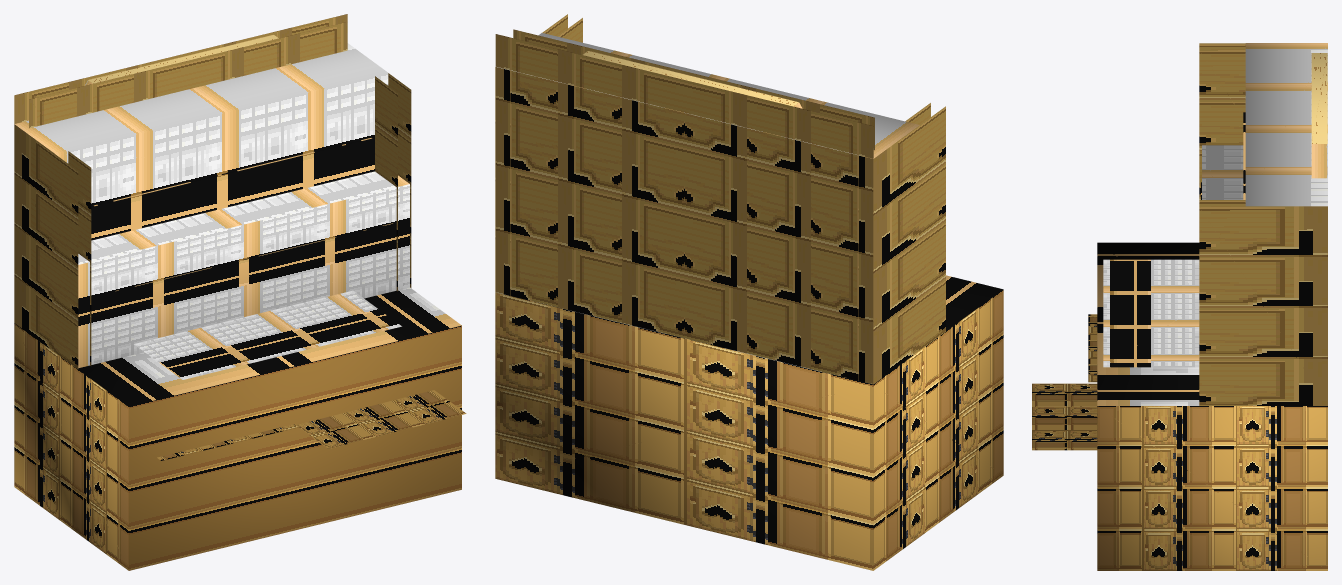
Rendered from 3067IMRL04_08.gltf.
3 renders of one model, left to right at view 1: azimuth 30°, elevation 25°; view 2: azimuth 150°, elevation 25°; view 3: azimuth 270°, elevation 25°, orthographic. The views are drawn at different scales.
Visible parts, largest first — view 1: 3067IMRL04_08; view 2: 3067IMRL04_08; view 3: 3067IMRL04_08.
Boxes of the visible parts, x1=… form: 3067IMRL04_08: x1=14, y1=14, x2=466, y2=570; 3067IMRL04_08: x1=495, y1=14, x2=1003, y2=570; 3067IMRL04_08: x1=1032, y1=43, x2=1327, y2=570.
Size of the model in its own units: 1.68 by 1.88 by 1.28.
3 materials, 3 textured.
